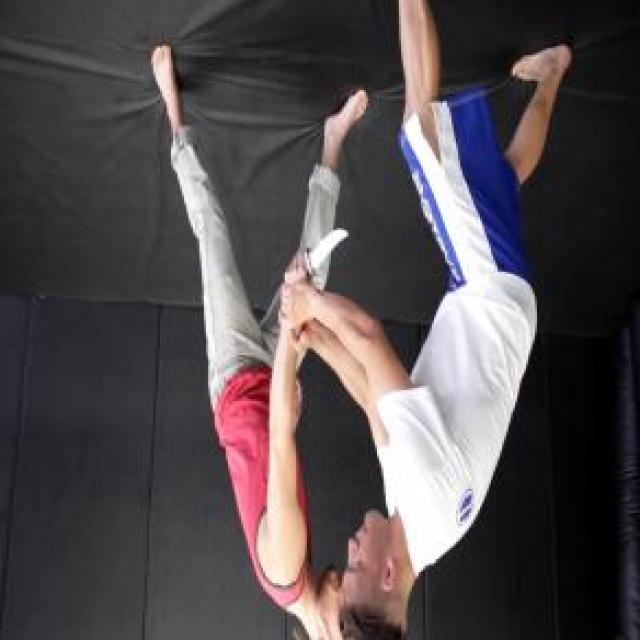knife: (278, 217, 353, 285)
